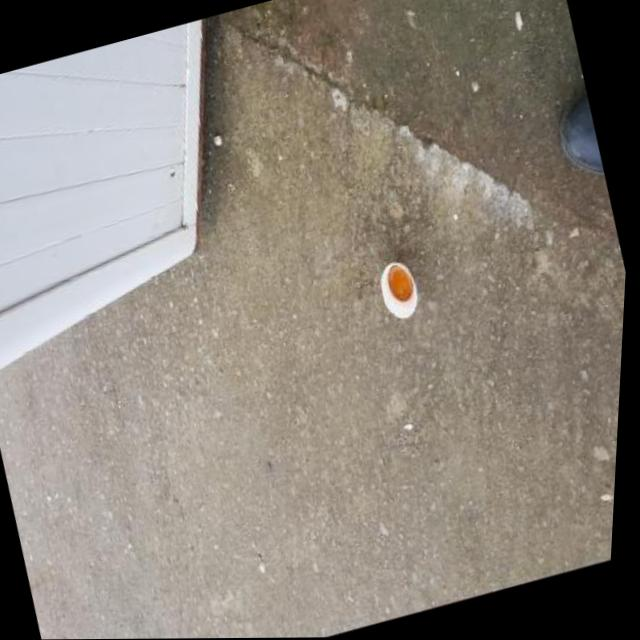cardboard: (249, 198, 319, 249)
